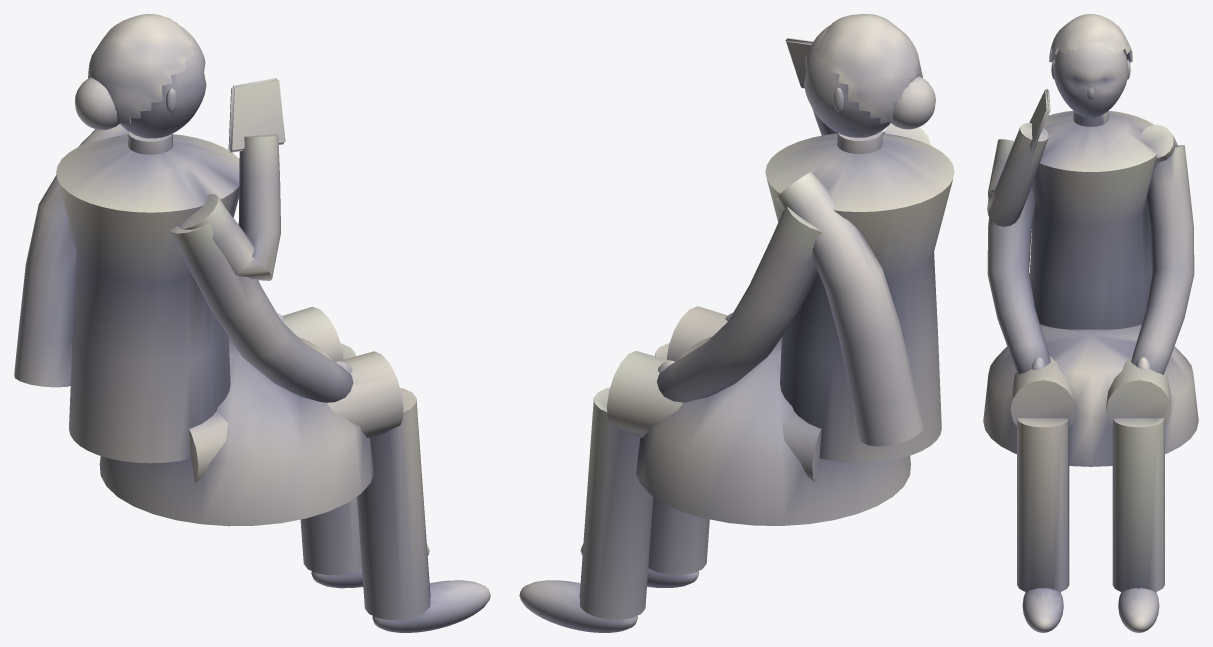
File: mrs-sahukar.glb
3 renders of one model, left to right at view 1: azimuth 30°, elevation 25°; view 2: azimuth 150°, elevation 25°; view 3: azimuth 270°, elevation 25°, orthographic. The views are drawn at different scales.
Visible parts, largest first — view 1: body; view 2: body; view 3: body.
Part boxes in pixels (box(x1,y1,x2,y2)): body: box(14, 14, 490, 632); body: box(519, 14, 954, 632); body: box(983, 14, 1198, 632).
Size of the model in its own units: 0.8389 by 1.29 by 0.496.
